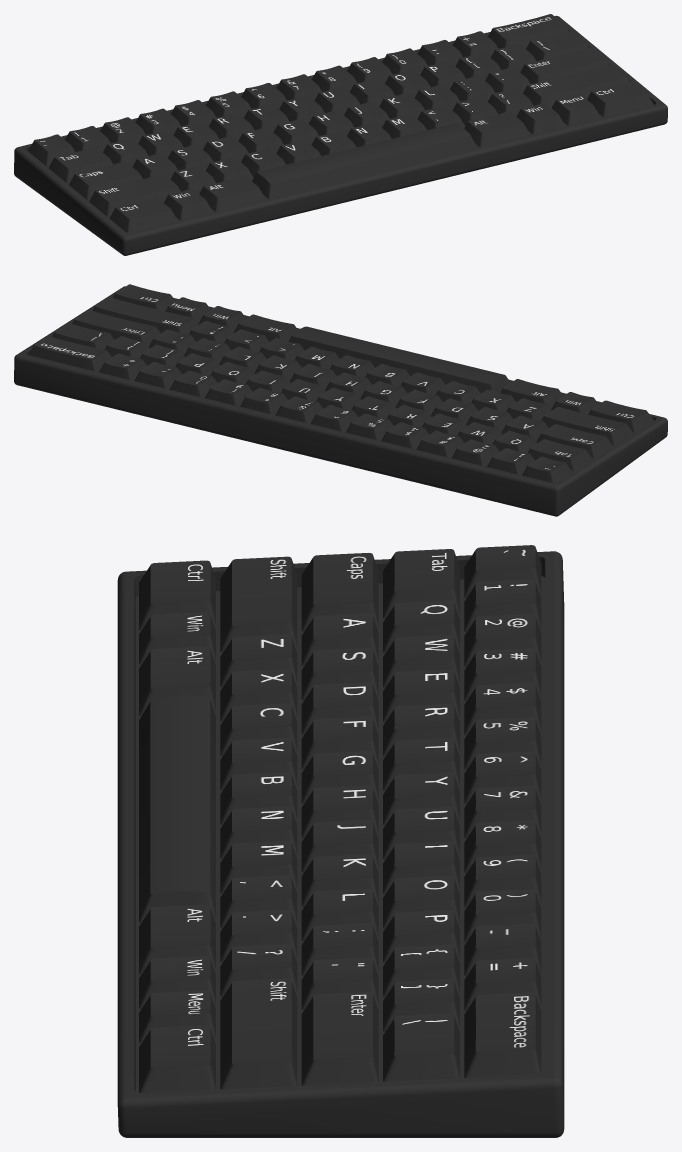
The model's file is keyboard.obj.
The picture shows the model from 3 angles, top to bottom: view 1: azimuth 30°, elevation 25°; view 2: azimuth 150°, elevation 25°; view 3: azimuth 270°, elevation 25°; orthographic projection. The views are drawn at different scales.
Parts seen in each view (by area): view 1: keyboard_us-compact-angled.obj; view 2: keyboard_us-compact-angled.obj; view 3: keyboard_us-compact-angled.obj.
Boxes of the visible parts, x1=… form: keyboard_us-compact-angled.obj: x1=14, y1=14, x2=667, y2=255; keyboard_us-compact-angled.obj: x1=14, y1=284, x2=667, y2=516; keyboard_us-compact-angled.obj: x1=117, y1=545, x2=564, y2=1137.
Size of the model in its own units: 0.294 by 0.0198 by 0.1042.
